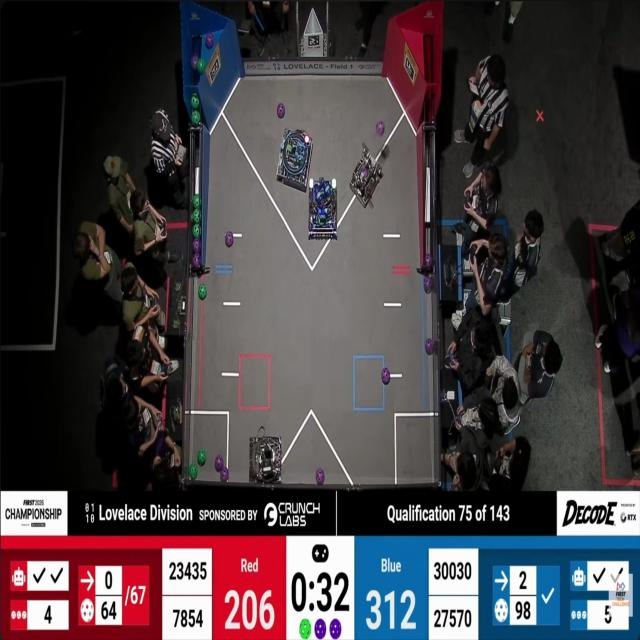artifact_green: (299, 619, 311, 639), (189, 463, 198, 480), (197, 449, 206, 466), (198, 284, 207, 300), (191, 94, 200, 109), (198, 58, 206, 74), (193, 208, 201, 223), (192, 111, 200, 125), (191, 55, 198, 70), (193, 194, 201, 207), (193, 224, 201, 237)
artifact_purple: (315, 619, 326, 639), (330, 619, 341, 639), (381, 367, 391, 385), (215, 455, 224, 472), (425, 339, 434, 355), (376, 120, 385, 136), (424, 275, 432, 293), (206, 32, 214, 49), (192, 253, 201, 268), (425, 253, 433, 269), (316, 468, 324, 484), (220, 468, 229, 482), (277, 103, 285, 118), (225, 232, 233, 247), (191, 55, 198, 70), (193, 238, 200, 252), (361, 167, 369, 179)
